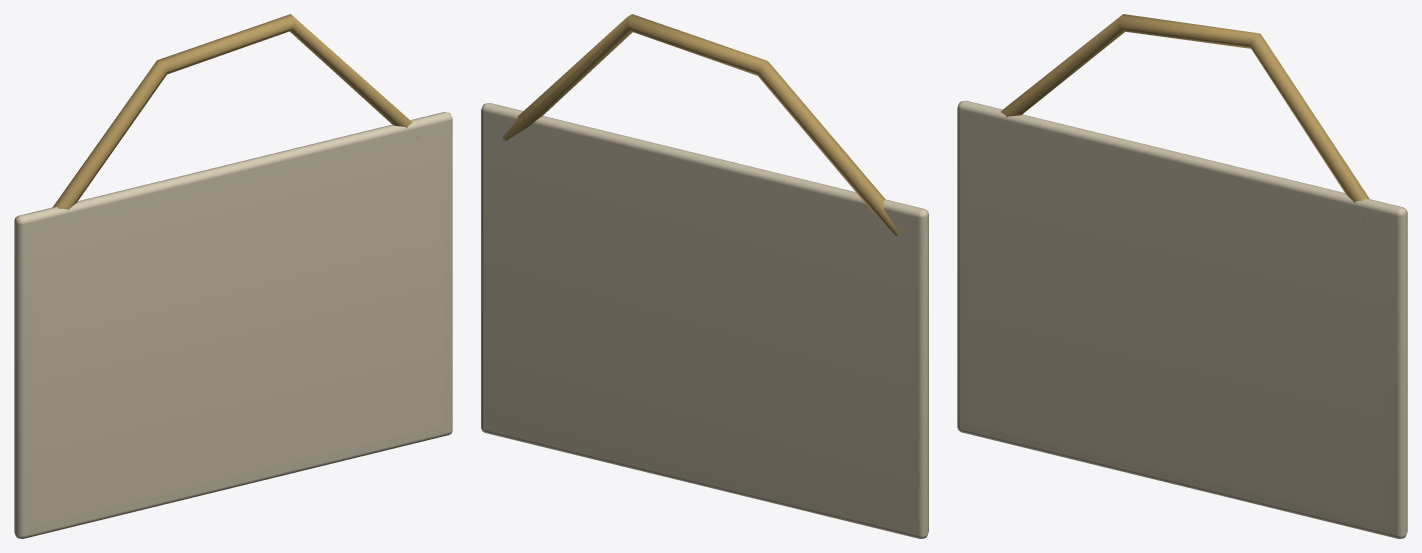
File: tag.glb
3 renders of one model, left to right at view 1: azimuth 30°, elevation 25°; view 2: azimuth 150°, elevation 25°; view 3: azimuth 330°, elevation 25°, orthographic. The views are drawn at different scales.
Parts seen in each view (by area): view 1: tag.map.1, tag.paper.0, tag.fabric.2; view 2: tag.paper.0, tag.fabric.2; view 3: tag.map.1, tag.paper.0, tag.fabric.2.
Boxes of the visible parts, x1,y1,x2,y2 form: tag.map.1: (33, 132, 443, 526); tag.paper.0: (14, 112, 452, 538); tag.fabric.2: (52, 14, 418, 225); tag.paper.0: (481, 103, 928, 538); tag.fabric.2: (503, 14, 899, 235); tag.map.1: (966, 121, 1387, 526); tag.paper.0: (957, 100, 1407, 538); tag.fabric.2: (1001, 14, 1369, 217).
Size of the model in its own units: 0.34 by 0.335 by 0.023.
